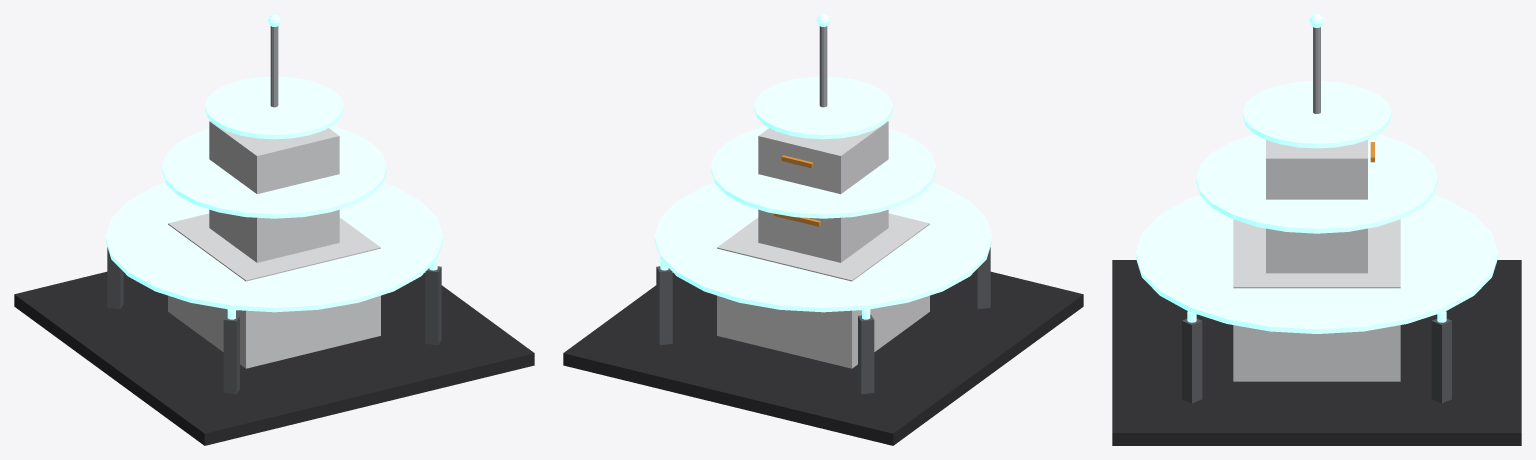
Rendered from SM_Hero_AegisSpire.glb.
3 renders of one model, left to right at view 1: azimuth 30°, elevation 25°; view 2: azimuth 150°, elevation 25°; view 3: azimuth 270°, elevation 25°, orthographic. The views are drawn at different scales.
Parts seen in each view (by area): view 1: SM_Hero_AegisSpire; view 2: SM_Hero_AegisSpire; view 3: SM_Hero_AegisSpire.
Boxes of the visible parts, left/top/right/bottom form: SM_Hero_AegisSpire: left=14, top=14, right=534, bottom=445; SM_Hero_AegisSpire: left=563, top=14, right=1083, bottom=445; SM_Hero_AegisSpire: left=1112, top=14, right=1521, bottom=445.
Bounding box in the file's own units: 7.92 × 7.37 × 7.92.
